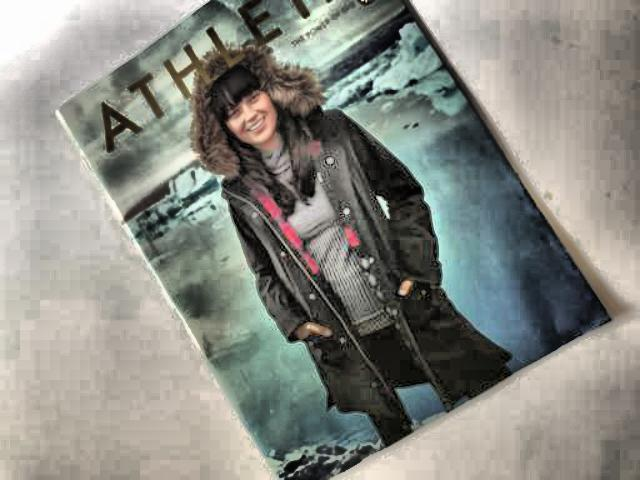Paper: (57, 0, 636, 479)
